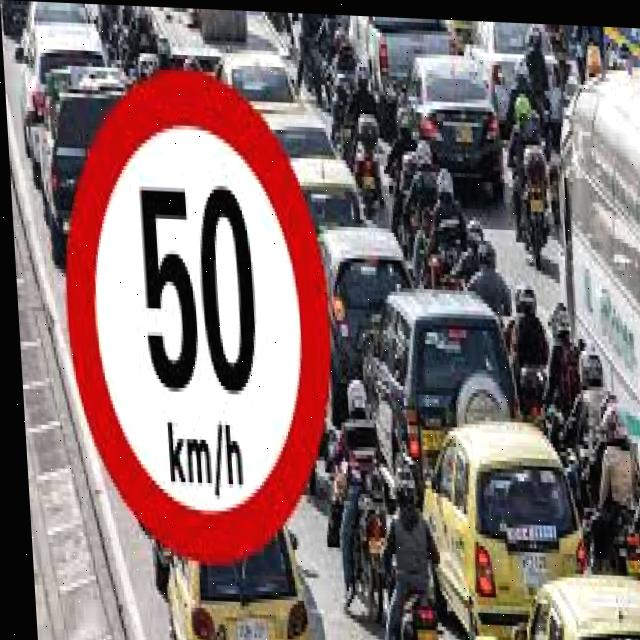Speed limit 50: (49, 58, 339, 570)
